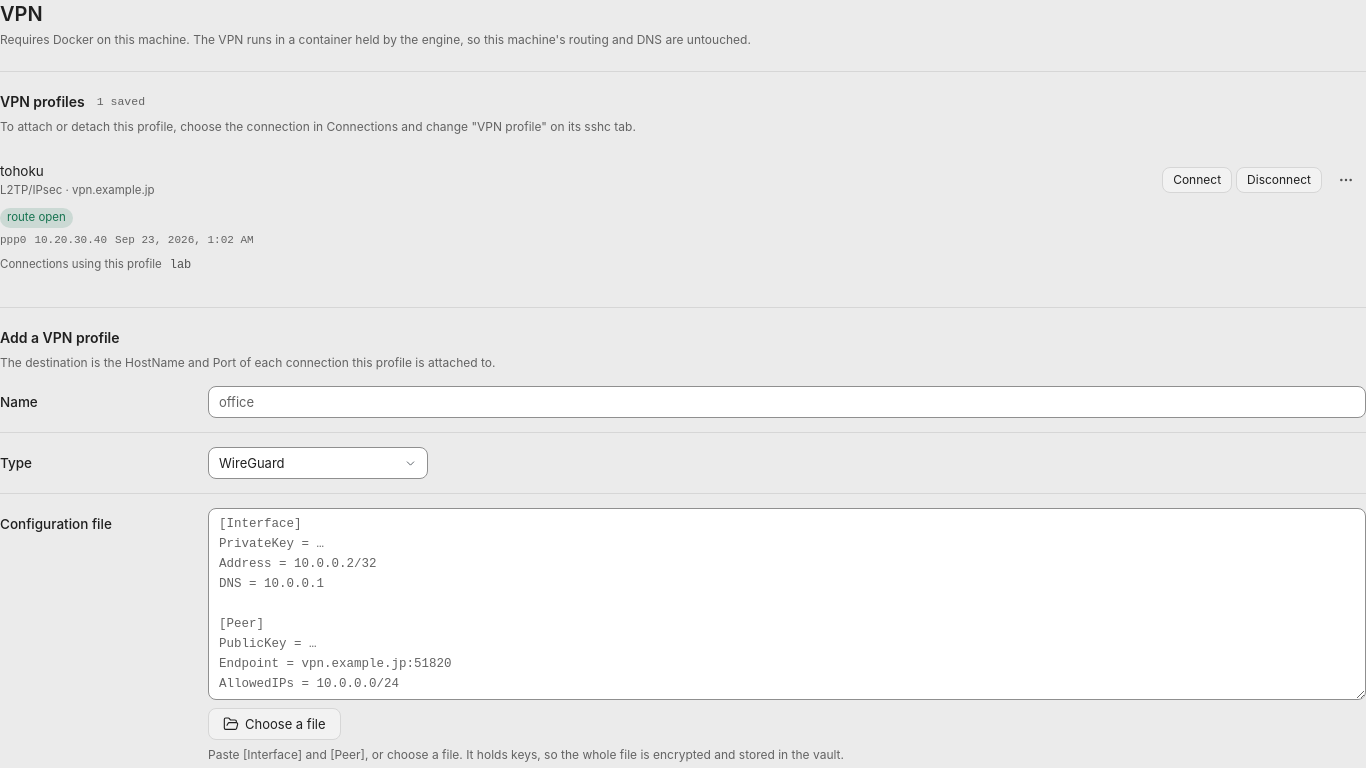
Test: VPNPanel › names the field when the engine refuses a new name
Click the button named "Actions for tohoku": click(1346, 180) x1=1326 y1=160 x2=1365 y2=200
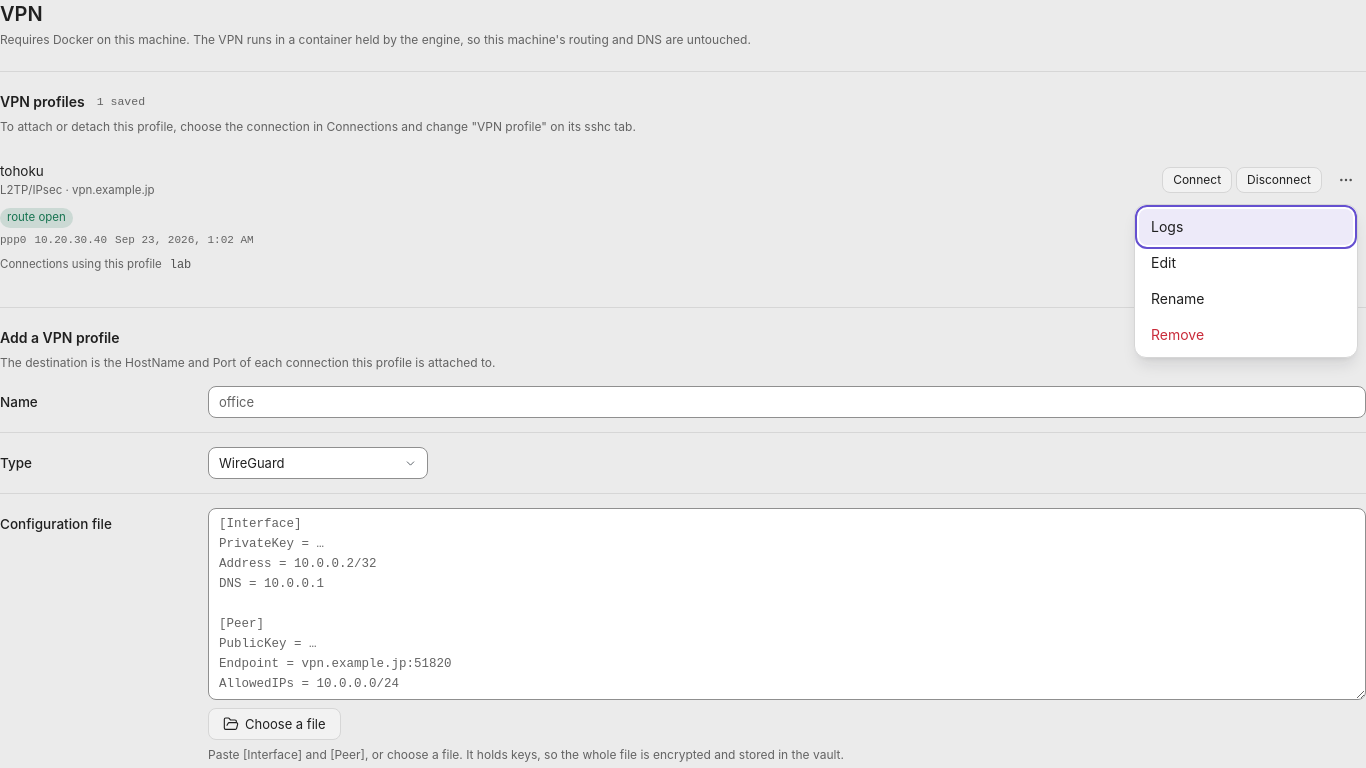
Click the menu item "Rename": click(1246, 299) x1=1139 y1=281 x2=1353 y2=317
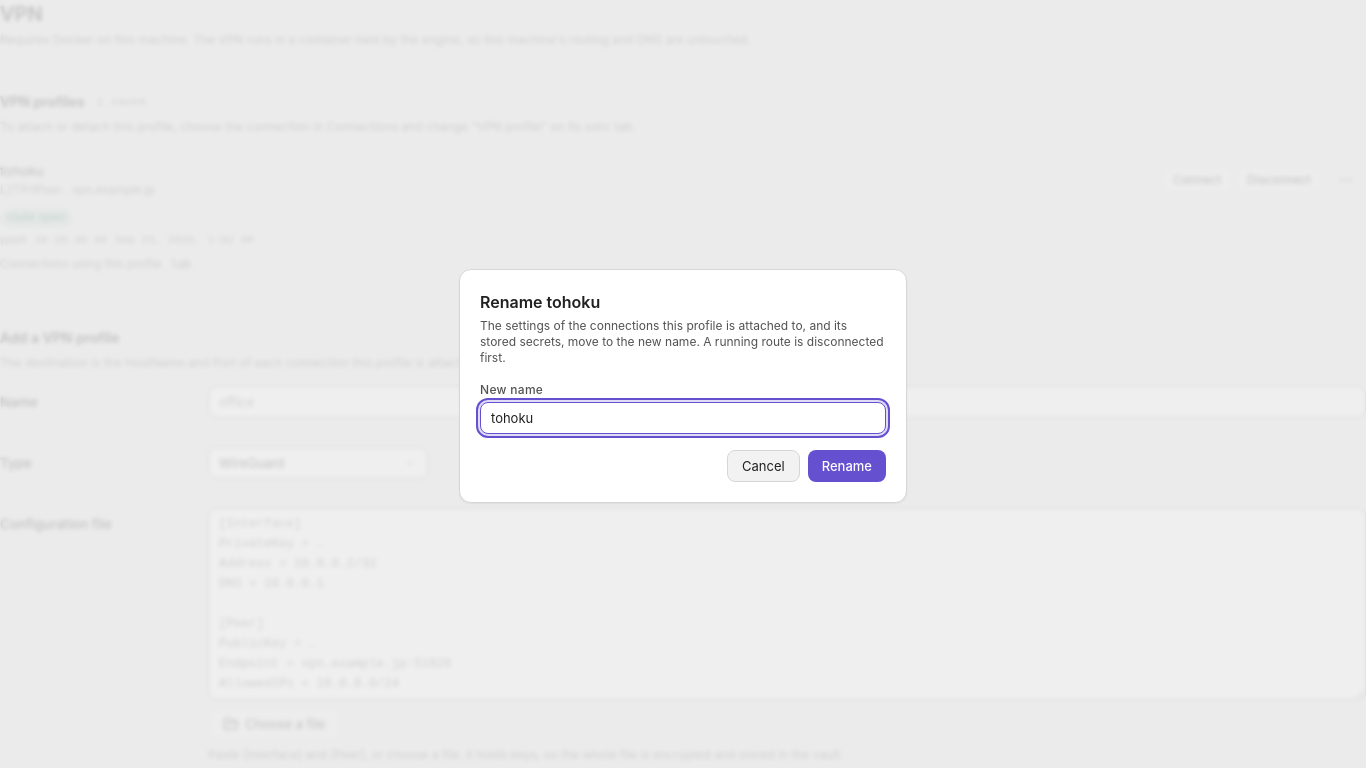
Replace the text in the field labelled "New name" with "tains": (683, 418) x1=480 y1=402 x2=886 y2=434
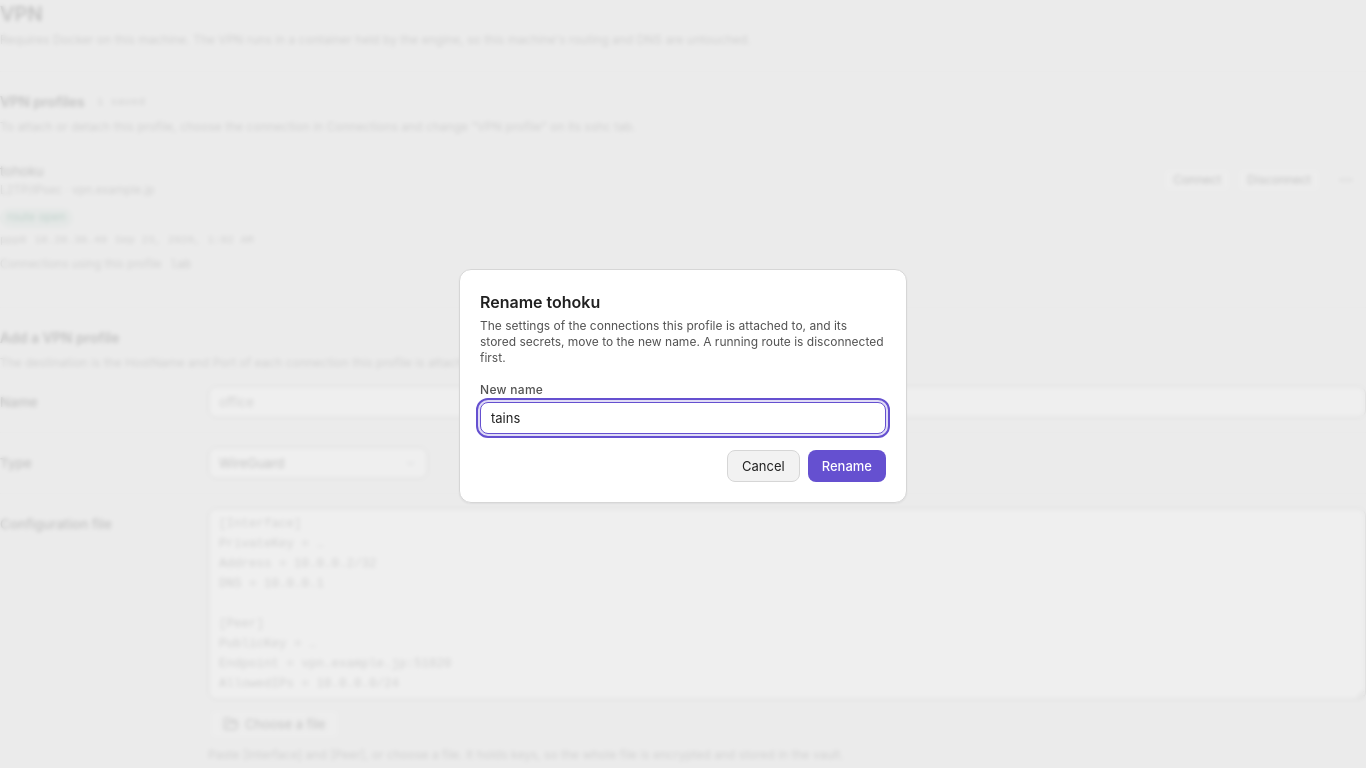
Click the button "Rename": click(847, 466) x1=808 y1=450 x2=886 y2=482
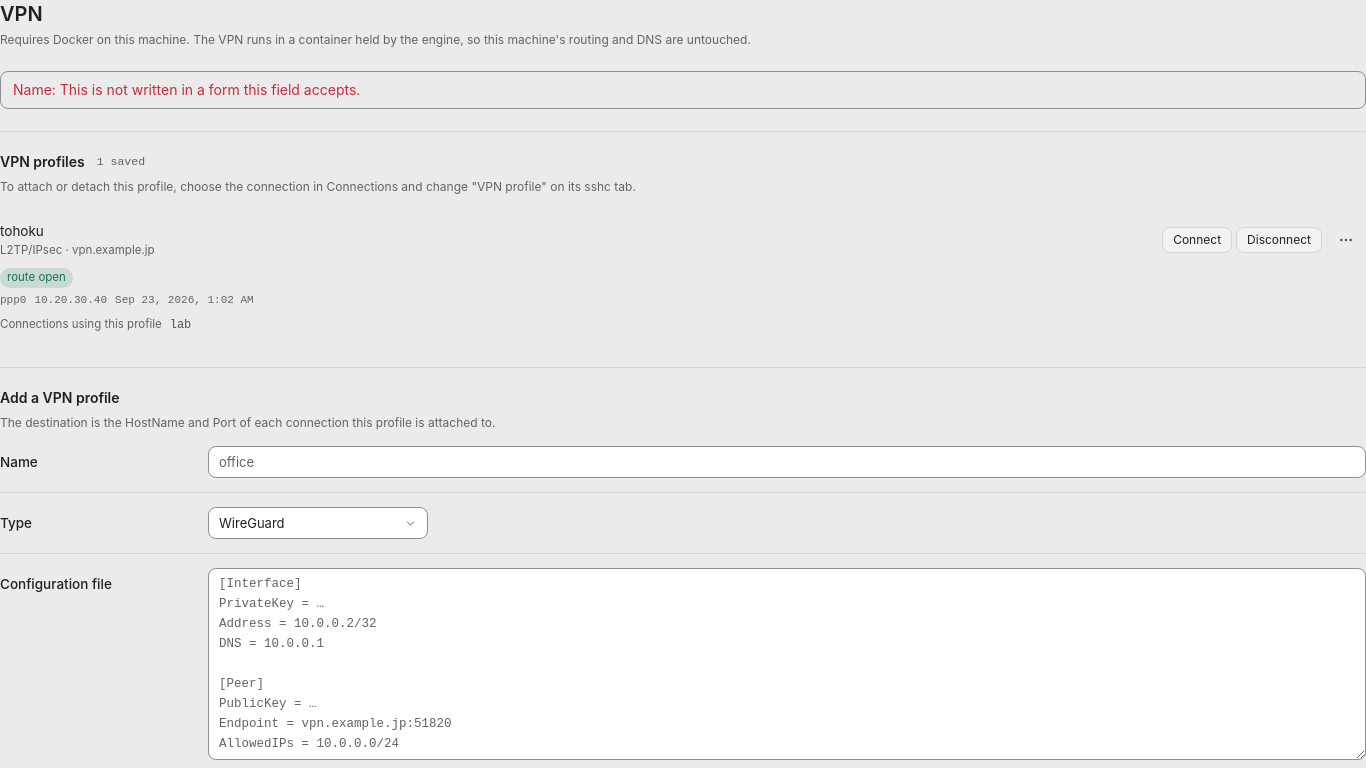
Expected: the message reads "Name: This is not written in a form this field accepts.", x1=13 y1=81 x2=360 y2=98
